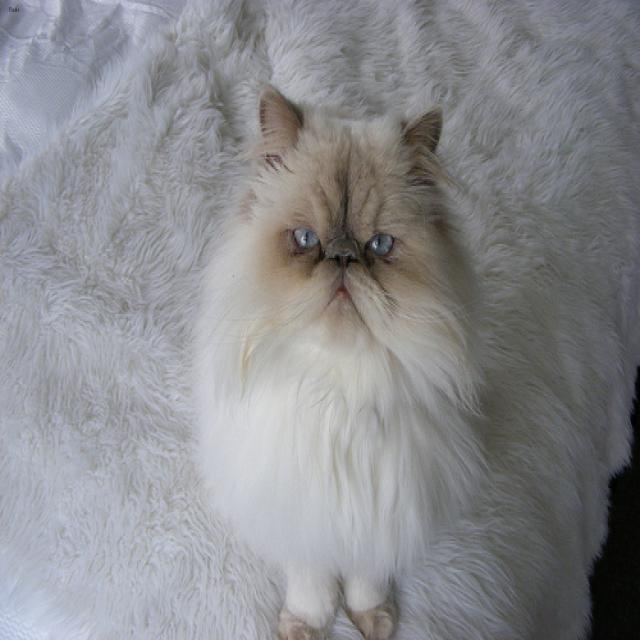Persian: (224, 83, 469, 402)
